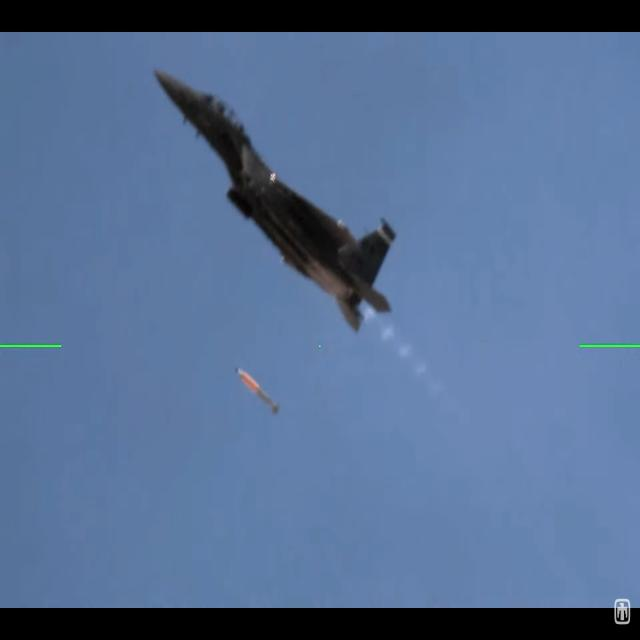MIL_Plane: (153, 68, 397, 334)
